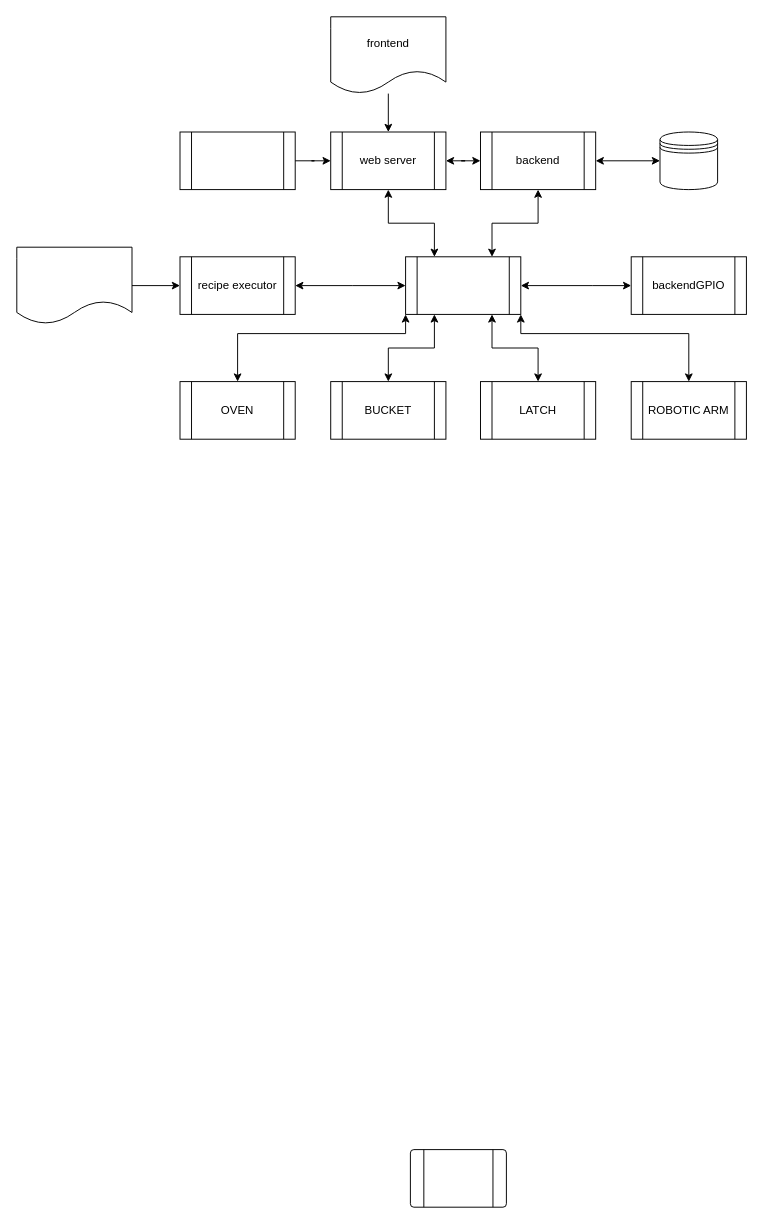
Image size: 763x1224. Some labels were removed from this diagram. Here are the shapes that lost their labels. From the top down, the centre of each, then its label:
the point at 237,160: web browser
the point at 688,160: db
the point at 74,285: recipe
the point at 463,285: MQTT broker
